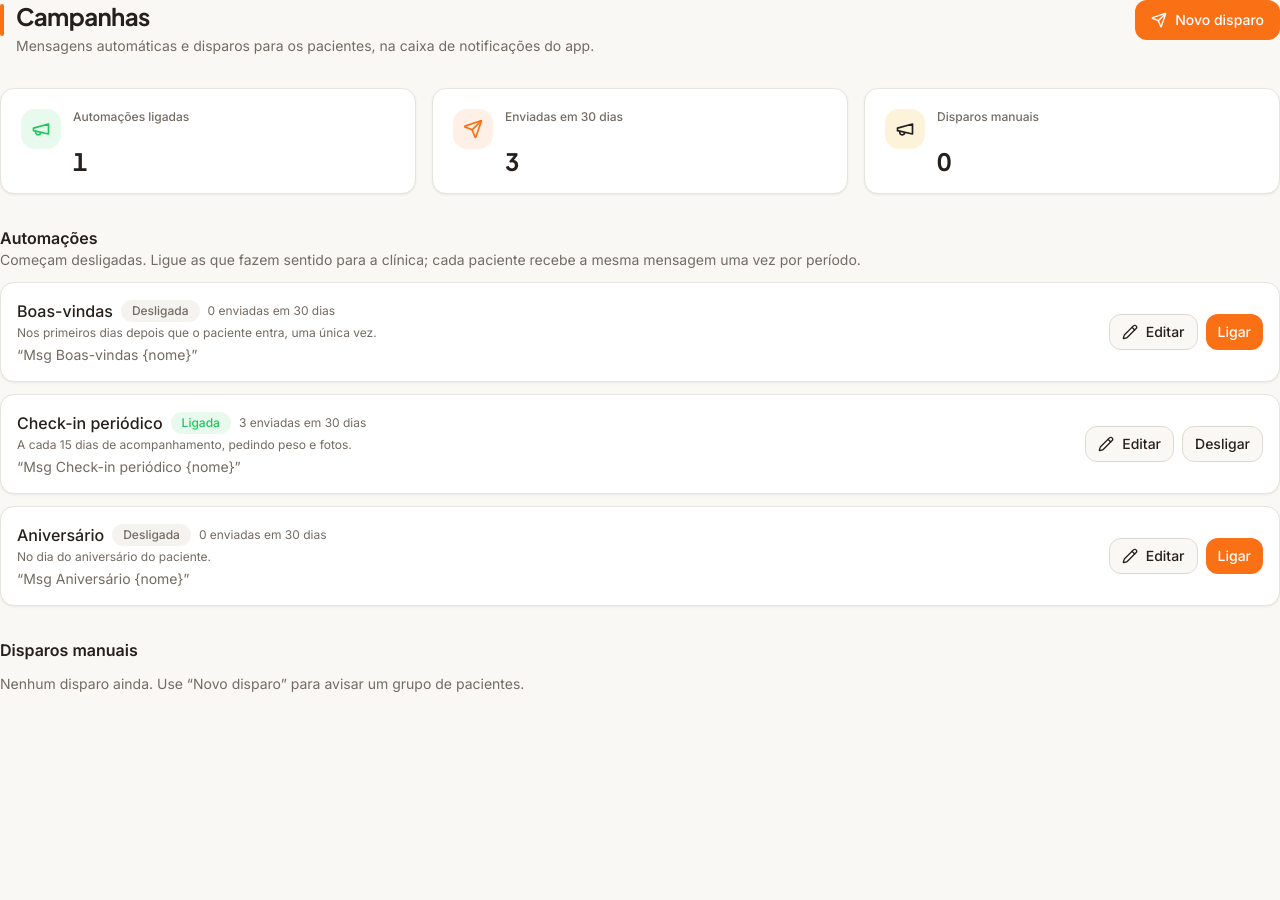
CampaignsPage › disparo: audiência vazia bloqueia o envio
Click the button "Novo disparo".
click(1208, 20)  # box [1135,0,1279,40]
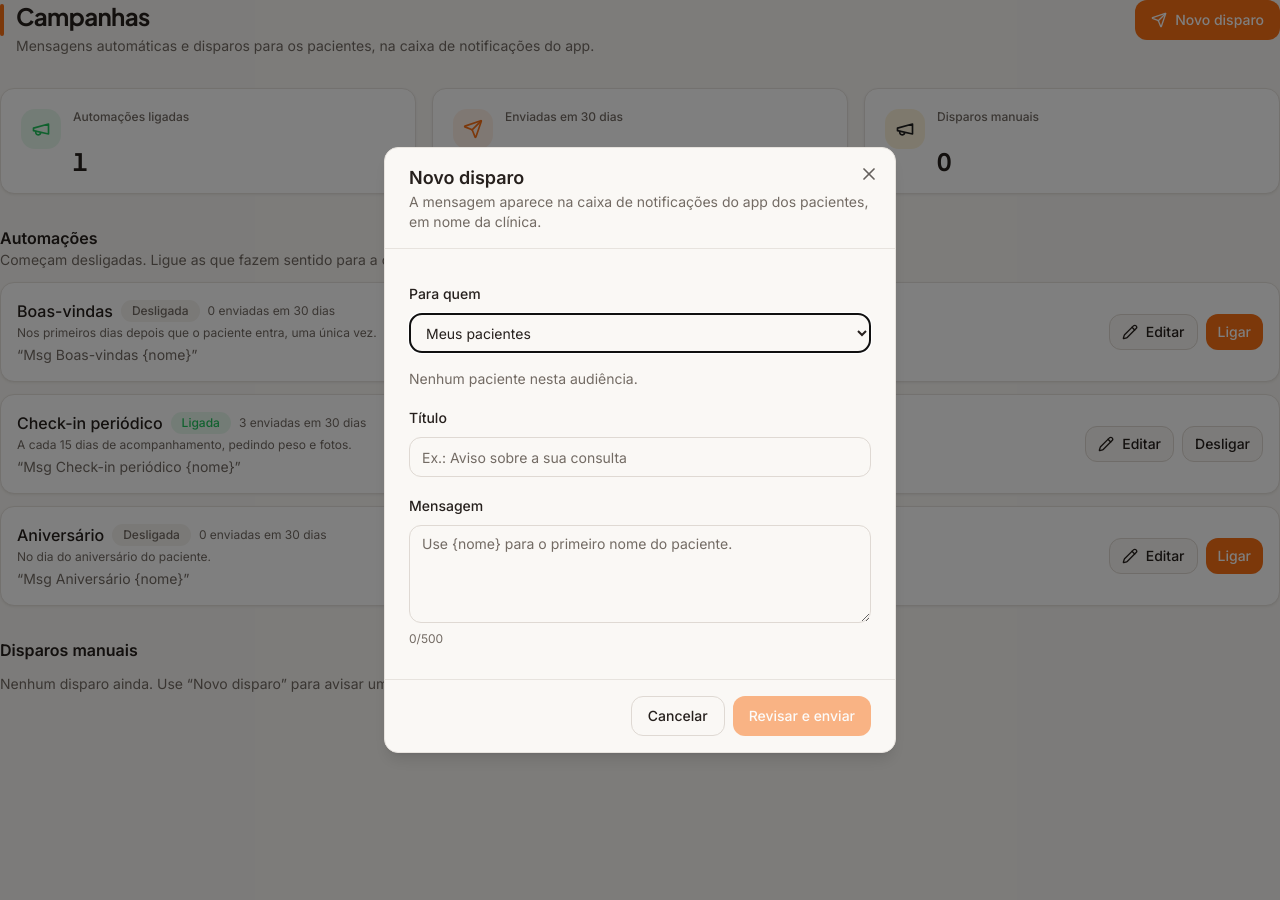
Now the text "Nenhum paciente nesta audiência." is shown, box [409,370,638,387]
Now the button "Revisar e enviar" is disabled, box [733,696,871,736]
